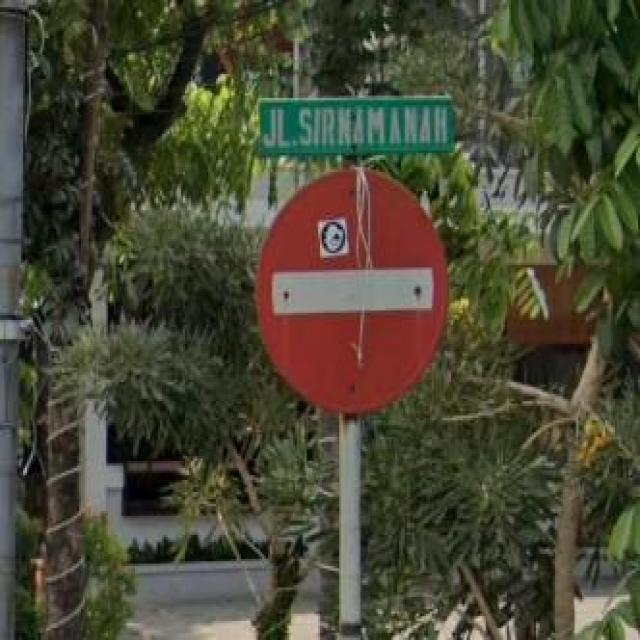traffic sign: (257, 169, 448, 418)
